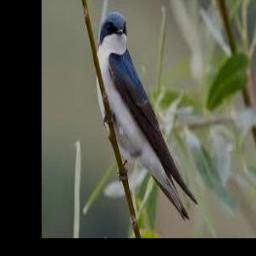Swallow: (96, 11, 198, 221)
